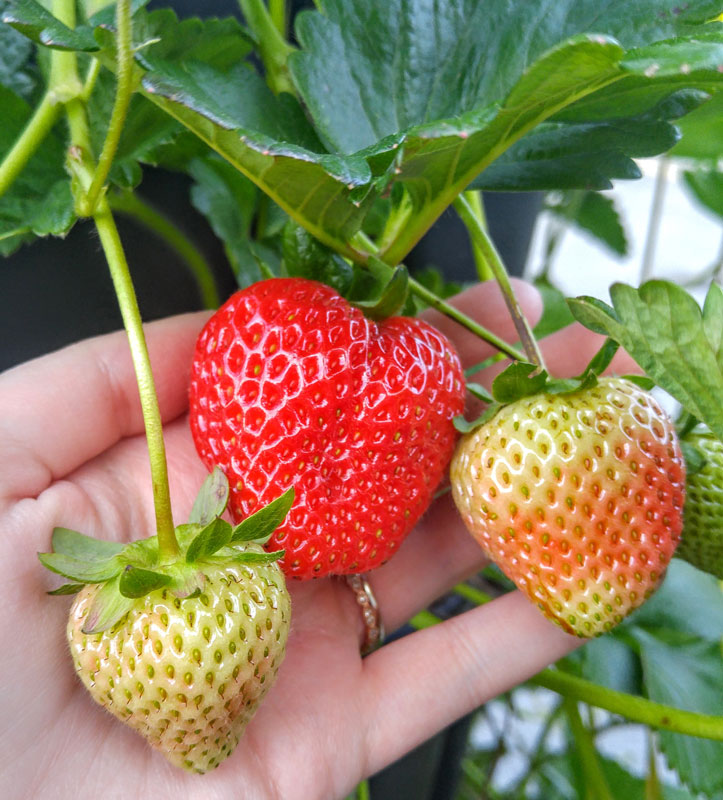ripe_strawberry: (187, 270, 467, 580)
unripe_strawberry: (446, 369, 693, 646), (60, 512, 296, 781), (678, 413, 723, 583)
